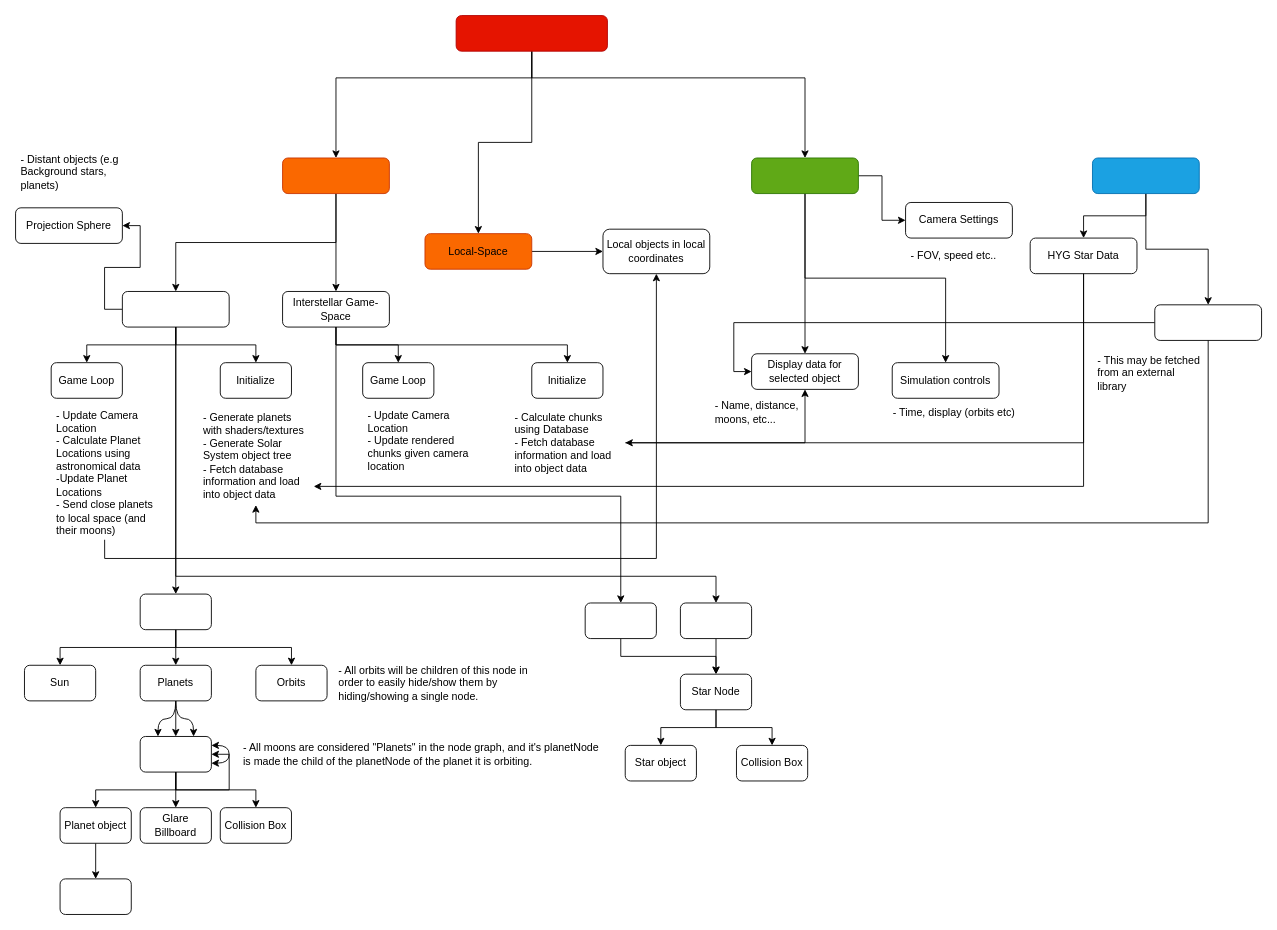
Image size: 1277x930. Some labels were removed from this diagram. Each missing label, with the box of its shape:
Databases: (1092, 157, 1199, 194)
Extra details (e.g Rings): (59, 878, 131, 914)
Game-Space: (282, 157, 389, 194)
Planet Data: (1154, 304, 1262, 340)
Planet Node: (139, 736, 211, 772)
Planetary Game-Space: (121, 291, 229, 327)
Program: (455, 15, 607, 51)
Solar System: (139, 593, 211, 630)
Star Background: (680, 602, 752, 639)
Star chunks: (584, 602, 656, 639)
UI: (751, 157, 858, 194)
